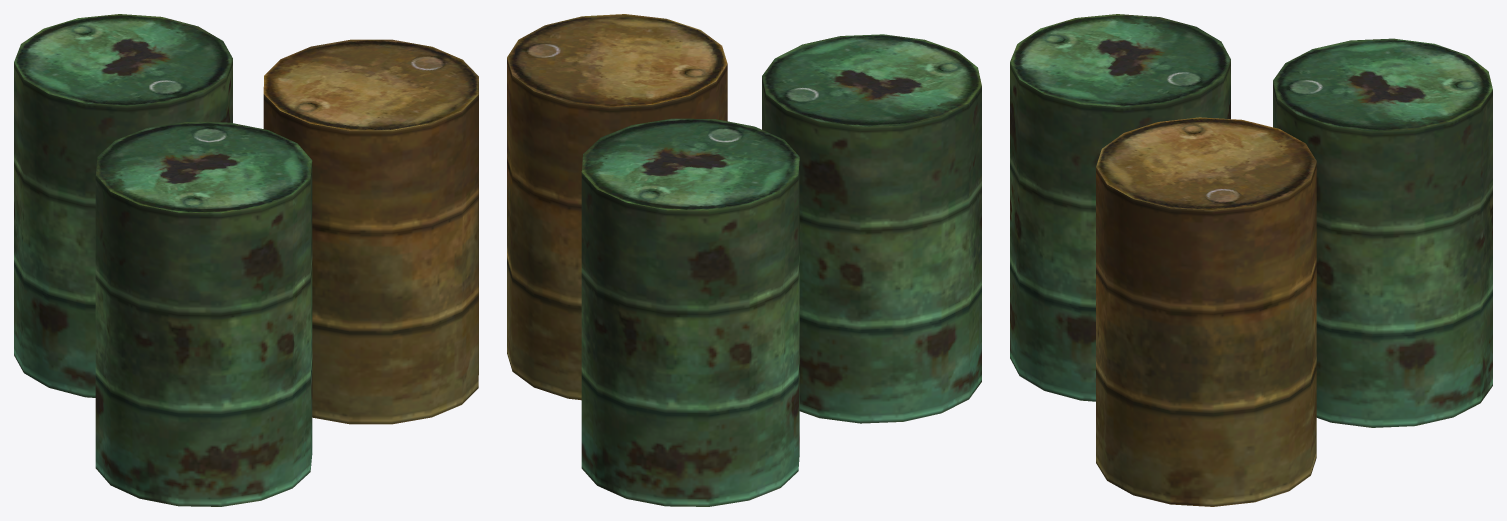
File: od_group_of_three_upright_1.fbx
The picture shows the model from 3 angles, left to right: view 1: azimuth 30°, elevation 25°; view 2: azimuth 150°, elevation 25°; view 3: azimuth 270°, elevation 25°; orthographic projection.
Visible parts, largest first — view 1: mesh_0, mesh_1; view 2: mesh_0, mesh_1; view 3: mesh_0, mesh_1.
Boxes of the visible parts, bbox=[...] form: mesh_0: bbox=[14, 14, 312, 506]; mesh_1: bbox=[263, 39, 478, 424]; mesh_0: bbox=[581, 34, 981, 506]; mesh_1: bbox=[507, 14, 727, 400]; mesh_0: bbox=[1010, 14, 1492, 427]; mesh_1: bbox=[1096, 117, 1316, 506].
Size of the model in its own units: 126 by 88.26 by 130.
Materials: 2 (2 with a texture image).
